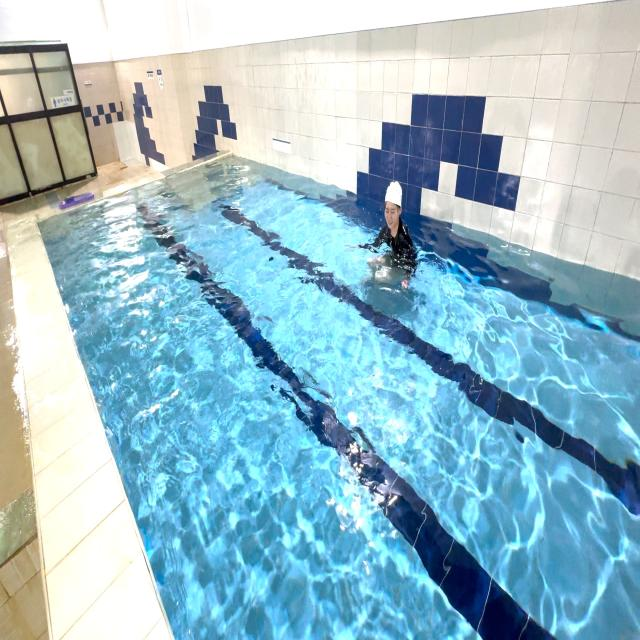Swimming: (345, 157, 441, 326)
